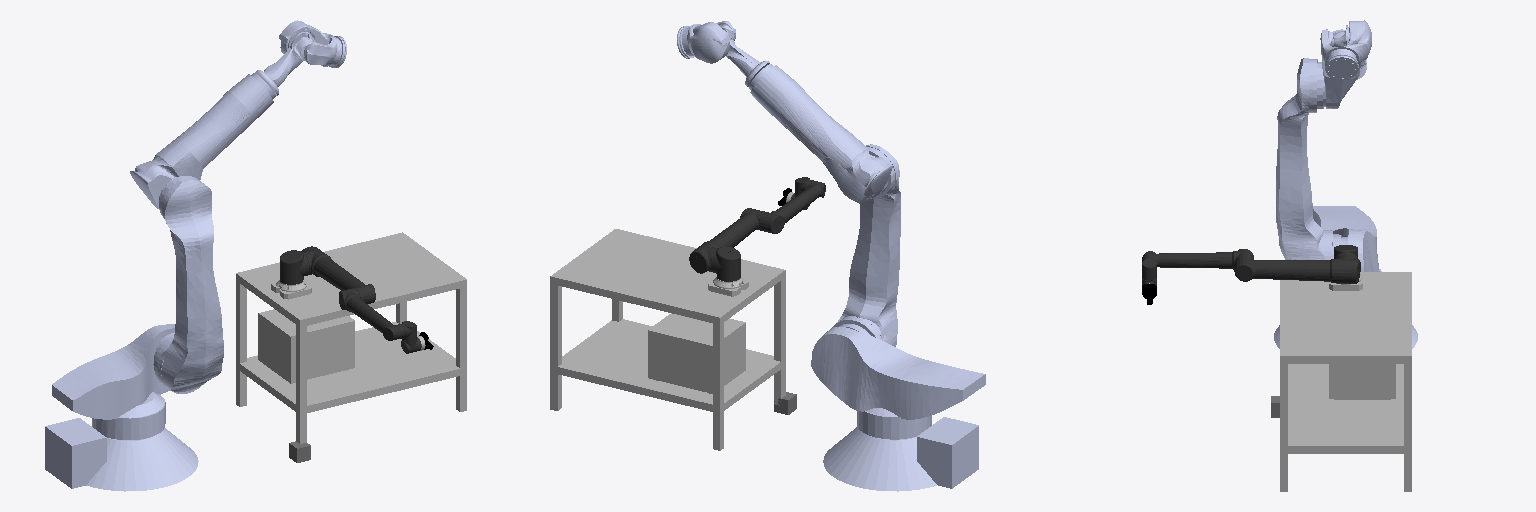
--- Render facts (derived) ---
3 views of the same robot in one strip: view 1: azimuth 30°, elevation 25°; view 2: azimuth 150°, elevation 25°; view 3: azimuth 270°, elevation 25° (orthographic).
Robot: dual_robots — 26 links, 25 joints (6 revolute, 6 continuous, 13 fixed); root link world_link; default pose: all joints at 0.
Links seen in each view (by area): view 1: table_link, link_2, link_1, base_link_quantec, link_3, link_5, upper_arm_link, link_4, forearm_link, shoulder_link; view 2: table_link, link_1, base_link_quantec, link_2, link_3, link_5, upper_arm_link, forearm_link, shoulder_link, link_4; view 3: table_link, link_2, upper_arm_link, link_1, forearm_link, link_5, link_3, link_6.
Link boxes in pixels (x1=…): table_link: x1=236, y1=232, x2=466, y2=443; link_2: x1=153, y1=176, x2=223, y2=393; link_1: x1=52, y1=324, x2=174, y2=439; base_link_quantec: x1=45, y1=418, x2=198, y2=491; link_3: x1=130, y1=73, x2=275, y2=209; link_5: x1=279, y1=20, x2=341, y2=66; upper_arm_link: x1=301, y1=246, x2=375, y2=303; link_4: x1=255, y1=32, x2=315, y2=95; forearm_link: x1=339, y1=288, x2=404, y2=340; shoulder_link: x1=280, y1=250, x2=308, y2=284; table_link: x1=550, y1=229, x2=785, y2=450; link_1: x1=811, y1=327, x2=985, y2=439; base_link_quantec: x1=823, y1=417, x2=978, y2=491; link_2: x1=832, y1=144, x2=900, y2=346; link_3: x1=749, y1=64, x2=892, y2=203; link_5: x1=682, y1=21, x2=735, y2=63; upper_arm_link: x1=689, y1=208, x2=764, y2=273; forearm_link: x1=759, y1=180, x2=825, y2=233; shoulder_link: x1=711, y1=247, x2=740, y2=281; link_4: x1=723, y1=30, x2=769, y2=86; table_link: x1=1280, y1=272, x2=1411, y2=491; link_2: x1=1276, y1=58, x2=1344, y2=259; upper_arm_link: x1=1234, y1=254, x2=1360, y2=283; link_1: x1=1313, y1=206, x2=1381, y2=271; forearm_link: x1=1142, y1=249, x2=1253, y2=269; link_5: x1=1320, y1=20, x2=1371, y2=63; link_3: x1=1321, y1=29, x2=1366, y2=108; link_6: x1=1325, y1=54, x2=1358, y2=80.
Size in the robot's own frame: 2.72 by 1.66 by 2.73 metres.
Meshes: 17 distinct files referenced, 17 mesh visuals loaded (17 binary STL).

robot.urdf — dual_robots:
<?xml version="1.0" ?>
<!-- =================================================================================== -->
<!-- |    This document was autogenerated by xacro from [local-path]/goldilocks_sensibility_ws/src/bdr11_description/urdf/test/bdr11_test.urdf.xacro | -->
<!-- |    EDITING THIS FILE BY HAND IS NOT RECOMMENDED                                 | -->
<!-- =================================================================================== -->
<robot name="dual_robots">
    <!-- Define the world link -->
    <link name="world_link">
        <inertial>
            <mass value="1.0" />
            <origin rpy="0 0 0" xyz="0 0 0" />
            <inertia ixx="0" ixy="0" ixz="0" iyy="0" iyz="0" izz="0" />
        </inertial>
        <visual>
            <geometry>
                <box size="0.1 0.1 0.1" />
            </geometry>
            <material name="gray">
                <color rgba="0.5 0.5 0.5 1.0" />
            </material>
        </visual>
        <collision>
            <geometry>
                <box size="0.1 0.1 0.1" />
            </geometry>
        </collision>
    </link>
    <!--https://github.com/carlosjoserg/force-torque-sensor/tree/master/model-->
    <!-- Add feedback for camera-related joints -->
    <gazebo reference="rgbd_camera_joint">
        <provideFeedback>true</provideFeedback>
        <plugin name="gazebo_ros_control" filename="libgazebo_ros_control.so">
            <robotNamespace>/</robotNamespace>
        </plugin>
    </gazebo>
    <gazebo reference="rgbd_camera_optical_joint">
        <provideFeedback>true</provideFeedback>
    </gazebo>
    <gazebo reference="rgbd_camera_depth_joint">
        <provideFeedback>true</provideFeedback>
    </gazebo>
    <gazebo reference="rgbd_camera_depth_optical_joint">
        <provideFeedback>true</provideFeedback>
    </gazebo>
    <gazebo reference="rgbd_camera_rgb_joint">
        <provideFeedback>true</provideFeedback>
    </gazebo>
    <gazebo reference="rgbd_camera_rgb_optical_joint">
        <provideFeedback>true</provideFeedback>
    </gazebo>
    <gazebo reference="rgbd_camera_link">
        <!-- Depth (IR) -->
        <sensor name="rgbd_camera_frame_sensor" type="depth">
            <always_on>true</always_on>
            <update_rate>6.0</update_rate>
            <camera>
                <horizontal_fov>1.0122909661567112</horizontal_fov>
                <image>
                    <format>R8G8B8</format>
                    <width>800</width>
                    <height>600</height>
                </image>
                <clip>
                    <near>0.05</near>
                    <far>1.5</far>
                </clip>
            </camera>
            <plugin filename="libgazebo_ros_openni_kinect.so" name="rgbd_camera_frame_controller">
                <alwaysOn>true</alwaysOn>
                <updateRate>6.0</updateRate>
                <cameraName>rgbd_camera</cameraName>
                <imageTopicName>ir/image_raw</imageTopicName>
                <cameraInfoTopicName>ir/camera_info</cameraInfoTopicName>
                <depthImageTopicName>depth/image_raw</depthImageTopicName>
                <depthImageCameraInfoTopicName>depth/camera_info</depthImageCameraInfoTopicName>
                <pointCloudTopicName>depth/points</pointCloudTopicName>
                <frameName>rgbd_camera_optical_frame</frameName>
                <pointCloudCutoff>0.05</pointCloudCutoff>
                <pointCloudCutoffMax>5</pointCloudCutoffMax>
                <rangeMax>1.5</rangeMax>
            </plugin>
        </sensor>
        <!-- RGB -->
        <sensor name="rgbd_camera_frame_sensor" type="depth">
            <always_on>true</always_on>
            <update_rate>6.0</update_rate>
            <camera>
                <horizontal_fov>1.0122909661567112</horizontal_fov>
                <image>
                    <format>R8G8B8</format>
                    <width>800</width>
                    <height>600</height>
                </image>
                <clip>
                    <near>0.05</near>
                    <far>1.5</far>
                </clip>
            </camera>
            <plugin filename="libgazebo_ros_openni_kinect.so" name="rgbd_camera_frame_controller">
                <alwaysOn>true</alwaysOn>
                <updateRate>6.0</updateRate>
                <cameraName>rgbd_camera</cameraName>
                <imageTopicName>rgb/image_raw</imageTopicName>
                <cameraInfoTopicName>rgb/camera_info</cameraInfoTopicName>
                <pointCloudTopicName>rgb/points</pointCloudTopicName>
                <depthImageTopicName>depth/image_raw</depthImageTopicName>
                <depthImageCameraInfoTopicName>depth/camera_info</depthImageCameraInfoTopicName>
                <frameName>rgbd_camera_optical_frame</frameName>
                <pointCloudCutoff>0.05</pointCloudCutoff>
                <pointCloudCutoffMax>5</pointCloudCutoffMax>
                <rangeMax>1.5</rangeMax>
            </plugin>
        </sensor>
        <!-- Add feedback for camera link -->
        <provideFeedback>true</provideFeedback>
    </gazebo>
    <!-- call -->
    <!-- <xacro:ur10_robot/> -->
    <link name="table_link">
        <inertial>
            <origin rpy="0 0 0" xyz="0.503679778923471 0.436750246454337 0.533162239913515" />
            <mass value="164.427518164029" />
            <inertia ixx="17.5438109681455" ixy="1.00173029919582" ixz="-0.84554880731535" iyy="27.9962527469498" iyz="0.32261270489944" izz="25.3196927520228" />
        </inertial>
        <visual>
            <origin rpy="0 0 0" xyz="0 0 0" />
            <geometry>
                <mesh filename="package://ur10_description_v3/meshes/table_link.STL" />
            </geometry>
            <material name="">
                <color rgba="0.752941176470588 0.752941176470588 0.752941176470588 1" />
            </material>
        </visual>
        <collision>
            <origin rpy="0 0 0" xyz="0 0 0" />
            <geometry>
                <mesh filename="package://ur10_description_v3/meshes/table_link.STL" />
            </geometry>
        </collision>
    </link>
    <link name="adapter_link">
        <inertial>
            <origin rpy="0 0 0" xyz="0.00148762870939384 -5.55111512312578E-17 0.0184969952138566" />
            <mass value="1.3940393775037" />
            <inertia ixx="0.00480218257555222" ixy="-3.32761202584861E-19" ixz="-6.23136456619299E-09" iyy="0.00460995913579551" iyz="-9.9318015210222E-20" izz="0.00909416459764461" />
        </inertial>
        <visual>
            <origin rpy="0 0 0" xyz="0 0 0" />
            <geometry>
                <mesh filename="package://ur10_description_v3/meshes/adapter_link.STL" />
            </geometry>
            <material name="">
                <color rgba="0.752941176470588 0.752941176470588 0.752941176470588 1" />
            </material>
        </visual>
        <collision>
            <origin rpy="0 0 0" xyz="0 0 0" />
            <geometry>
                <mesh filename="package://ur10_description_v3/meshes/adapter_link.STL" />
            </geometry>
        </collision>
    </link>
    <joint name="adapter_joint" type="fixed">
        <origin rpy="0 0 0" xyz="0.17 0.4 0.9" />
        <parent link="table_link" />
        <child link="adapter_link" />
        <axis xyz="0 0 0" />
    </joint>
    <link name="base_link">
        <inertial>
            <origin rpy="0 0 0" xyz="0.0011845 -2.7253E-08 0.017325" />
            <mass value="0.86268" />
            <inertia ixx="0.0017501" ixy="8.3495E-09" ixz="9.0593E-06" iyy="0.0016637" iyz="-4.5806E-10" izz="0.0032119" />
        </inertial>
        <visual>
            <origin rpy="0 0 0" xyz="0 0 0" />
            <geometry>
                <mesh filename="package://ur10_description_v3/meshes/base_link.STL" />
            </geometry>
            <material name="">
                <color rgba="0.75294 0.75294 0.75294 1" />
            </material>
        </visual>
        <collision>
            <origin rpy="0 0 0" xyz="0 0 0" />
            <geometry>
                <mesh filename="package://ur10_description_v3/meshes/base_link.STL" />
            </geometry>
        </collision>
    </link>
    <joint name="base_joint" type="fixed">
        <origin rpy="0 0 0" xyz="0 0 0.037" />
        <parent link="adapter_link" />
        <child link="base_link" />
        <axis xyz="0 0 0" />
    </joint>
    <link name="shoulder_link">
        <inertial>
            <origin rpy="0 0 0" xyz="2.679E-07 0.010024 0.0831" />
            <mass value="7.778" />
            <inertia ixx="0.012906" ixy="1.6076E-08" ixz="-3.7079E-08" iyy="0.012039" iyz="-0.00053627" izz="0.010755" />
        </inertial>
        <visual>
            <origin rpy="0 0 0" xyz="0 0 0" />
            <geometry>
                <mesh filename="package://ur10_description_v3/meshes/shoulder_link.STL" />
            </geometry>
            <material name="">
                <color rgba="0.25098 0.25098 0.25098 1" />
            </material>
        </visual>
        <collision>
            <origin rpy="0 0 0" xyz="0 0 0" />
            <geometry>
                <mesh filename="package://ur10_description_v3/meshes/shoulder_link.STL" />
            </geometry>
        </collision>
    </link>
    <joint name="shoulder_pan_joint" type="revolute">
        <origin rpy="0 0 -1.57" xyz="0 0 0.038" />
        <parent link="base_link" />
        <child link="shoulder_link" />
        <axis xyz="0 0 1" />
        <limit effort="330" lower="-6.28" upper="6.28" velocity="120" />
    </joint>
    <link name="upper_arm_link">
        <inertial>
            <origin rpy="0 0 0" xyz="-0.25443 -2.027E-07 0.082537" />
            <mass value="12.93" />
            <inertia ixx="0.024456" ixy="3.1971E-08" ixz="0.0078193" iyy="0.52575" iyz="8.3512E-08" izz="0.52417" />
        </inertial>
        <visual>
            <origin rpy="0 0 0" xyz="0 0 0" />
            <geometry>
                <mesh filename="package://ur10_description_v3/meshes/upper_arm_link.STL" />
            </geometry>
            <material name="">
                <color rgba="0.25098 0.25098 0.25098 1" />
            </material>
        </visual>
        <collision>
            <origin rpy="0 0 0" xyz="0 0 0" />
            <geometry>
                <mesh filename="package://ur10_description_v3/meshes/upper_arm_link.STL" />
            </geometry>
        </collision>
    </link>
    <joint name="shoulder_lift_joint" type="revolute">
        <origin rpy="1.5707963267949 0.0240929901040578 3.14159265358979" xyz="0 0.0859989999999999 0.0882571802206784" />
        <parent link="shoulder_link" />
        <child link="upper_arm_link" />
        <axis xyz="0 0 1" />
        <limit effort="330" lower="-6.28" upper="6.28" velocity="120" />
    </joint>
    <link name="forearm_link">
        <inertial>
            <origin rpy="0 0 0" xyz="-0.24807 1.9251E-09 -0.034936" />
            <mass value="3.87" />
            <inertia ixx="0.0067905" ixy="5.4328E-08" ixz="-0.00025402" iyy="0.20899" iyz="7.4389E-09" izz="0.20875" />
        </inertial>
        <visual>
            <origin rpy="0 0 0" xyz="0 0 0" />
            <geometry>
                <mesh filename="package://ur10_description_v3/meshes/forearm_link.STL" />
            </geometry>
            <material name="">
                <color rgba="0.25098 0.25098 0.25098 1" />
            </material>
        </visual>
        <collision>
            <origin rpy="0 0 0" xyz="0 0 0" />
            <geometry>
                <mesh filename="package://ur10_description_v3/meshes/forearm_link.STL" />
            </geometry>
        </collision>
    </link>
    <joint name="elbow_joint" type="revolute">
        <origin rpy="0 0 0.0242666741712824" xyz="-0.612 0 0" />
        <parent link="upper_arm_link" />
        <child link="forearm_link" />
        <axis xyz="0 0 1" />
        <limit effort="150" lower="-3.14" upper="3.14" velocity="180" />
    </joint>
    <link name="wrist_1_link">
        <inertial>
            <origin rpy="0 0 0" xyz="8.3814E-09 -0.010045 0.046994" />
            <mass value="1.96" />
            <inertia ixx="0.0010747" ixy="-1.3405E-12" ixz="4.6386E-10" iyy="0.00088168" iyz="7.862E-05" izz="0.00098347" />
        </inertial>
        <visual>
            <origin rpy="0 0 0" xyz="0 0 0" />
            <geometry>
                <mesh filename="package://ur10_description_v3/meshes/wrist_1_link.STL" />
            </geometry>
            <material name="">
                <color rgba="0.25098 0.25098 0.25098 1" />
            </material>
        </visual>
        <collision>
            <origin rpy="0 0 0" xyz="0 0 0" />
            <geometry>
                <mesh filename="package://ur10_description_v3/meshes/wrist_1_link.STL" />
            </geometry>
        </collision>
    </link>
    <joint name="wrist_1_joint" type="revolute">
        <origin rpy="0 0 -0.000173684067224549" xyz="-0.5716 0 0.0220010000000001" />
        <parent link="forearm_link" />
        <child link="wrist_1_link" />
        <axis xyz="0 0 1" />
        <limit effort="56" lower="-6.28" upper="6.28" velocity="180" />
    </joint>
    <link name="wrist_2_link">
        <inertial>
            <origin rpy="0 0 0" xyz="-8.3814E-09 0.010045 0.046994" />
            <mass value="1.96" />
            <inertia ixx="0.0010747" ixy="-1.3405E-12" ixz="-4.6386E-10" iyy="0.00088168" iyz="-7.862E-05" izz="0.00098347" />
        </inertial>
        <visual>
            <origin rpy="0 0 0" xyz="0 0 0" />
            <geometry>
                <mesh filename="package://ur10_description_v3/meshes/wrist_2_link.STL" />
            </geometry>
            <material name="">
                <color rgba="0.25098 0.25098 0.25098 1" />
            </material>
        </visual>
        <collision>
            <origin rpy="0 0 0" xyz="0 0 0" />
            <geometry>
                <mesh filename="package://ur10_description_v3/meshes/wrist_2_link.STL" />
            </geometry>
        </collision>
    </link>
    <joint name="wrist_2_joint" type="revolute">
        <origin rpy="1.5707963267949 0 0" xyz="0 -0.0617000000000001 0.054" />
        <parent link="wrist_1_link" />
        <child link="wrist_2_link" />
        <axis xyz="0 0 1" />
        <limit effort="56" lower="-6.28" upper="6.28" velocity="180" />
    </joint>
    <link name="wrist_3_link">
        <inertial>
            <origin rpy="0 0 0" xyz="2.2204E-16 -1.1102E-16 0.015005" />
            <mass value="0.202" />
            <inertia ixx="0.00010845" ixy="-6.3527E-22" ixz="8.5217E-21" iyy="0.00010845" iyz="2.1272E-20" izz="0.0001885" />
        </inertial>
        <visual>
            <origin rpy="0 0 0" xyz="0 0 0" />
            <geometry>
                <mesh filename="package://ur10_description_v3/meshes/wrist_3_link.STL" />
            </geometry>
            <material name="">
                <color rgba="0.75294 0.75294 0.75294 1" />
            </material>
        </visual>
        <collision>
            <origin rpy="0 0 0" xyz="0 0 0" />
            <geometry>
                <mesh filename="package://ur10_description_v3/meshes/wrist_3_link.STL" />
            </geometry>
        </collision>
    </link>
    <joint name="wrist_3_joint" type="revolute">
        <origin rpy="-1.5707963267949 0.0141025375343068 0" xyz="0 0.0617 0.054" />
        <parent link="wrist_2_link" />
        <child link="wrist_3_link" />
        <axis xyz="0 0 1" />
        <limit effort="56" lower="-6.28" upper="6.28" velocity="180" />
    </joint>
    <link name="tool0_link">
        <inertial>
            <origin rpy="0 0 0" xyz="-9.51811385263568E-09 -0.00040829549117638 -0.063076624107084" />
            <mass value="0.159494248297753" />
            <inertia ixx="0.000196142213229152" ixy="-3.17147593634008E-12" ixz="-8.16590451397829E-11" iyy="0.000202558472496363" iyz="3.31143649078889E-05" izz="0.000103928487892553" />
        </inertial>
        <visual>
            <origin rpy="0 0 0" xyz="0 0 0" />
            <geometry>
                <mesh filename="package://ur10_description_v3/meshes/test_finger_link.STL" />
            </geometry>
            <material name="">
                <color rgba="0 0 0 1" />
            </material>
        </visual>
        <collision>
            <origin rpy="0 0 0" xyz="0 0 0" />
            <geometry>
                <mesh filename="package://ur10_description_v3/meshes/test_finger_link.STL" />
            </geometry>
        </collision>
    </link>
    <joint name="tool0" type="fixed">
        <origin rpy="0.785398163397435 0 0" xyz="0 -0.0486072989450782 0.0984743807368732" />
        <parent link="wrist_3_link" />
        <child link="tool0_link" />
        <axis xyz="0 0 0" />
    </joint>
    <link name="camera_link">
        <inertial>
            <origin rpy="0 0 0" xyz="-1.61524861117535E-05 -0.00212700504491092 -0.0193765848255853" />
            <mass value="0.0840231018507497" />
            <inertia ixx="8.83086020963579E-06" ixy="4.69402693871799E-10" ixz="-1.85931238714756E-08" iyy="0.00010709697994186" iyz="1.0714392504519E-06" izz="0.000107821135197006" />
        </inertial>
        <!-- <visual>
                <origin xyz="0 0 0" rpy="0 0 0" />
                <geometry>
                    <mesh filename="package://ur10_description_v3/meshes/camera_link.STL" />
                </geometry>
                <material name="">
                    <color rgba="0.792156862745098 0.819607843137255 0.933333333333333 1" />
                </material>
            </visual> -->
        <collision>
            <origin rpy="0 0 0" xyz="0 0 0" />
            <geometry>
                <mesh filename="package://ur10_description_v3/meshes/camera_link.STL" />
            </geometry>
        </collision>
    </link>
    <joint name="tool_camera" type="fixed">
        <origin rpy="0.856180071631976 0 0" xyz="0 0.0158483827537649 0.0919267022436815" />
        <parent link="wrist_3_link" />
        <child link="camera_link" />
        <axis xyz="0 0 0" />
    </joint>
    <!-- Forces the joint to send feedback  -->
    <gazebo reference="wrist_3_joint">
        <provideFeedback>true</provideFeedback>
    </gazebo>
    <!-- The ft_sensor plugin  -->
    <gazebo>
        <plugin filename="libgazebo_ros_ft_sensor.so" name="wrist_3_joint_ft_sensor">
            <updateRate>1000.0</updateRate>
            <topicName>/wrench</topicName>
            <jointName>wrist_3_joint</jointName>
            <noise>
                <type>gaussian</type>
                <mean>0.0</mean>
                <stddev>0.003</stddev>
                <!-- change this to simulate noise -->
            </noise>
        </plugin>
    </gazebo>
    <!-- frames in the center of the camera -->
    <joint name="rgbd_camera_joint" type="fixed">
        <origin rpy="0 0 3.14" xyz="0 0 0.005" />
        <parent link="camera_link" />
        <child link="rgbd_camera_link" />
    </joint>
    <link name="rgbd_camera_link">
        <inertial>
            <origin rpy="0 0 0" xyz="-0.00936000000 -0.00003000000 -0.00273000000" />
            <mass value="0.21970000000" />
            <inertia ixx="0.00000429247" ixy="0.00000000000" ixz="0.00000002565" iyy="0.00000008027" iyz="0.00000000000" izz="0.00000427339" />
        </inertial>
        <!-- <visual>
                <geometry>
                    <box size="0.025 0.1 0.025" />
                    <<mesh filename="package://"/> 
                </geometry>
                <material name="DarkGrey"/>
            </visual> -->
        <!-- <collision>
                <geometry>
                    <box size="0.025 0.1 0.025" />
                    <mesh filename="package://"/>
                </geometry>
            </collision> -->
    </link>
    <joint name="rgbd_camera_optical_joint" type="fixed">
        <origin rpy="0 0 0" xyz="0 0 0" />
        <parent link="rgbd_camera_link" />
        <child link="rgbd_camera_optical_frame" />
    </joint>
    <link name="rgbd_camera_optical_frame">
        <inertial>
            <origin rpy="0 0 0" xyz="0 0 0" />
            <mass value="0.001" />
            <inertia ixx="0.00001" ixy="0" ixz="0" iyy="0.00001" iyz="0" izz="0.00001" />
        </inertial>
    </link>
    <!-- Depth sensor frames -->
    <joint name="rgbd_camera_depth_joint" type="fixed">
        <origin rpy="1.57 -1.57 0" xyz="-0.025 0.0 0.0" />
        <!--origin xyz="0.0 0.049 0.0" rpy="0 0 0"-->
        <parent link="rgbd_camera_link" />
        <child link="rgbd_camera_depth_frame" />
    </joint>
    <link name="rgbd_camera_depth_frame">
        <inertial>
            <origin rpy="0 0 0" xyz="0 0 0" />
            <mass value="0.001" />
            <inertia ixx="0.00001" ixy="0" ixz="0" iyy="0.00001" iyz="0" izz="0.00001" />
        </inertial>
    </link>
    <joint name="rgbd_camera_depth_optical_joint" type="fixed">
        <origin rpy="-1.5707963267948966 0.0 -1.5707963267948966" xyz="0 0 0" />
        <!-- -90 deg_to_rad - x&z -->
        <parent link="rgbd_camera_depth_frame" />
        <child link="rgbd_camera_depth_optical_frame" />
    </joint>
    <link name="rgbd_camera_depth_optical_frame">
        <inertial>
            <origin rpy="0 0 0" xyz="0 0 0" />
            <mass value="0.001" />
            <inertia ixx="0.00001" ixy="0" ixz="0" iyy="0.00001" iyz="0" izz="0.00001" />
        </inertial>
    </link>
    <!-- RGB sensor frames -->
    <joint name="rgbd_camera_rgb_joint" type="fixed">
        <origin rpy="1.57 -1.57 0" xyz="0 0 0" />
        <parent link="rgbd_camera_link" />
        <child link="rgbd_camera_rgb_frame" />
    </joint>
    <link name="rgbd_camera_rgb_frame">
        <inertial>
            <origin rpy="0 0 0" xyz="0 0 0" />
            <mass value="0.001" />
            <inertia ixx="0.00001" ixy="0" ixz="0" iyy="0.00001" iyz="0" izz="0.00001" />
        </inertial>
    </link>
    <joint name="rgbd_camera_rgb_optical_joint" type="fixed">
        <origin rpy="-1.5707963267948966 0.0 -1.5707963267948966" xyz="0 0 0" />
        <!-- -90 deg_to_rad - x&z -->
        <parent link="rgbd_camera_rgb_frame" />
        <child link="rgbd_camera_rgb_optical_frame" />
    </joint>
    <link name="rgbd_camera_rgb_optical_frame">
        <inertial>
            <origin rpy="0 0 0" xyz="0 0 0" />
            <mass value="0.001" />
            <inertia ixx="0.00001" ixy="0" ixz="0" iyy="0.00001" iyz="0" izz="0.00001" />
        </inertial>
    </link>
    <!-- ROS-Industrial 'base' frame: base_link to UR 'Base' Coordinates transform -->
    <link name="base" />
    <joint name="base_link-base_fixed_joint" type="fixed">
        <!-- Note the rotation over Z of pi radians: as base_link is REP-103
            aligned (ie: has X+ forward, Y+ left and Z+ up), this is needed
            to correctly align 'base' with the 'Base' coordinate system of
            the UR controller.
        -->
        <origin rpy="0 0 3.14" xyz="0 0 0" />
        <parent link="base_link" />
        <child link="base" />
    </joint>
    <joint name="ur10_robot_joint" type="fixed">
        <parent link="world_link" />
        <child link="table_link" />
        <!-- ${ur10_ns} -->
        <origin rpy="0 0 0" xyz="0 0 0" />
    </joint>
    <!-- call -->
    <!-- <xacro:moveit_quantec/> -->
    <link name="base_link_quantec">
        <inertial>
            <origin rpy="0 0 0" xyz="-0.0810107614623872 1.69806255825153E-07 0.10599645436339" />
            <mass value="97.9298238151877" />
            <inertia ixx="3.12727259199142" ixy="2.14569120944394E-06" ixz="0.467210023955441" iyy="5.52628001885015" iyz="-1.97817775090254E-06" izz="7.58545932293491" />
        </inertial>
        <visual>
            <origin rpy="0 0 0" xyz="0 0 0" />
            <geometry>
                <mesh filename="package://moveit_quantec/meshes/base_link.STL" />
            </geometry>
            <material name="">
                <color rgba="0.792156862745098 0.819607843137255 0.933333333333333 1" />
            </material>
        </visual>
        <collision>
            <origin rpy="0 0 0" xyz="0 0 0" />
            <geometry>
                <mesh filename="package://moveit_quantec/meshes/base_link.STL" />
            </geometry>
        </collision>
    </link>
    <link name="link_1">
        <inertial>
            <origin rpy="0 0 0" xyz="-0.0084665 0.019734 0.25939" />
            <mass value="94.945" />
            <inertia ixx="2.6472" ixy="-0.62895" ixz="-0.35979" iyy="6.3022" iyz="-0.17581" izz="5.5156" />
        </inertial>
        <visual>
            <origin rpy="0 0 0" xyz="0 0 0" />
            <geometry>
                <mesh filename="package://moveit_quantec/meshes/link_1.STL" />
            </geometry>
            <material name="">
                <color rgba="0.79216 0.81961 0.93333 1" />
            </material>
        </visual>
        <collision>
            <origin rpy="0 0 0" xyz="0 0 0" />
            <geometry>
                <mesh filename="package://moveit_quantec/meshes/link_1.STL" />
            </geometry>
        </collision>
    </link>
    <joint name="joint_1" type="continuous">
        <origin rpy="1.5708 0.014047 0" xyz="0 -0.235 0" />
        <parent link="base_link_quantec" />
        <child link="link_1" />
        <axis xyz="0 0 1" />
    </joint>
    <link name="link_2">
        <inertial>
            <origin rpy="0 0 0" xyz="0.0015545 -0.23159 0.40897" />
            <mass value="82.176" />
            <inertia ixx="12.398" ixy="-9.2862E-05" ixz="0.082654" iyy="12.541" iyz="0.043185" izz="0.91874" />
        </inertial>
        <visual>
            <origin rpy="0 0 0" xyz="0 0 0" />
            <geometry>
                <mesh filename="package://moveit_quantec/meshes/link_2.STL" />
            </geometry>
            <material name="">
                <color rgba="0.79216 0.81961 0.93333 1" />
            </material>
        </visual>
        <collision>
            <origin rpy="0 0 0" xyz="0 0 0" />
            <geometry>
                <mesh filename="package://moveit_quantec/meshes/link_2.STL" />
            </geometry>
        </collision>
    </link>
    <joint name="joint_2" type="continuous">
        <origin rpy="0 -0.0391 0" xyz="0.33 0 0.41772" />
        <parent link="link_1" />
        <child link="link_2" />
        <axis xyz="0 1 0" />
    </joint>
    <link name="link_3">
        <inertial>
            <origin rpy="0 0 0" xyz="0.35711 -0.015416 0.10193" />
            <mass value="47.124" />
            <inertia ixx="0.41866" ixy="-0.086691" ixz="-0.15996" iyy="3.9994" iyz="-0.042155" izz="3.9284" />
        </inertial>
        <visual>
            <origin rpy="0 0 0" xyz="0 0 0" />
            <geometry>
                <mesh filename="package://moveit_quantec/meshes/link_3.STL" />
            </geometry>
            <material name="">
                <color rgba="0.79216 0.81961 0.93333 1" />
            </material>
        </visual>
        <collision>
            <origin rpy="0 0 0" xyz="0 0 0" />
            <geometry>
                <mesh filename="package://moveit_quantec/meshes/link_3.STL" />
            </geometry>
        </collision>
    </link>
    <joint name="joint_3" type="continuous">
        <origin rpy="0 -0.52738 0" xyz="0 0 1.15" />
        <parent link="link_2" />
        <child link="link_3" />
        <axis xyz="0 1 0" />
    </joint>
    <link name="link_4">
        <inertial>
            <origin rpy="0 0 0" xyz="0.27937 0.0063685 -0.00017456" />
            <mass value="4.6744" />
            <inertia ixx="0.011503" ixy="-0.0037737" ixz="7.4652E-05" iyy="0.085293" iyz="-0.00012925" izz="0.085285" />
        </inertial>
        <visual>
            <origin rpy="0 0 0" xyz="0 0 0" />
            <geometry>
                <mesh filename="package://moveit_quantec/meshes/link_4.STL" />
            </geometry>
            <material name="">
                <color rgba="0.79216 0.81961 0.93333 1" />
            </material>
        </visual>
        <collision>
            <origin rpy="0 0 0" xyz="0 0 0" />
            <geometry>
                <mesh filename="package://moveit_quantec/meshes/link_4.STL" />
            </geometry>
        </collision>
    </link>
    <joint name="joint_4" type="continuous">
        <origin rpy="0.037095 0 0" xyz="0.78147 -0.0086752 0.115" />
        <parent link="link_3" />
        <child link="link_4" />
        <axis xyz="1 0 0" />
    </joint>
    <link name="link_5">
        <inertial>
            <origin rpy="0 0 0" xyz="0.046286 0.05529 7.0521E-05" />
            <mass value="8.3467" />
            <inertia ixx="0.035209" ixy="0.0040294" ixz="-2.9627E-05" iyy="0.059372" iyz="-0.00013764" izz="0.046632" />
        </inertial>
        <visual>
            <origin rpy="0 0 0" xyz="0 0 0" />
            <geometry>
                <mesh filename="package://moveit_quantec/meshes/link_5.STL" />
            </geometry>
            <material name="">
                <color rgba="0.79216 0.81961 0.93333 1" />
            </material>
        </visual>
        <collision>
            <origin rpy="0 0 0" xyz="0 0 0" />
            <geometry>
                <mesh filename="package://moveit_quantec/meshes/link_5.STL" />
            </geometry>
        </collision>
    </link>
    <joint name="joint_5" type="continuous">
        <origin rpy="0 0.9269 0" xyz="0.44853 0 0" />
        <parent link="link_4" />
        <child link="link_5" />
        <axis xyz="0 1 0" />
    </joint>
    <link name="link_6">
        <inertial>
            <origin rpy="0 0 0" xyz="0.021186 9.6657E-07 -3.3846E-07" />
            <mass value="0.97276" />
            <inertia ixx="0.0044336" ixy="-1.5389E-09" ixz="6.5721E-10" iyy="0.0023152" iyz="-1.9424E-09" izz="0.0023149" />
        </inertial>
        <visual>
            <origin rpy="0 0 0" xyz="0 0 0" />
            <geometry>
                <mesh filename="package://moveit_quantec/meshes/link_6.STL" />
            </geometry>
            <material name="">
                <color rgba="0.79216 0.81961 0.93333 1" />
            </material>
        </visual>
        <collision>
            <origin rpy="0 0 0" xyz="0 0 0" />
            <geometry>
                <mesh filename="package://moveit_quantec/meshes/link_6.STL" />
            </geometry>
        </collision>
    </link>
    <joint name="joint_6" type="continuous">
        <origin rpy="-2.218 0 0" xyz="0.20228 1.3733E-05 0" />
        <parent link="link_5" />
        <child link="link_6" />
        <axis xyz="1 0 0" />
    </joint>
    <joint name="quantec_robot_joint" type="fixed">
        <parent link="world_link" />
        <child link="base_link_quantec" />
        <!-- ${quantec_ns} -->
        <origin rpy="-1.57 0 0" xyz="-1 0.4 0" />
        <!-- Adjust xyz for the desired position -->
    </joint>
    <transmission name="trans_shoulder_pan_joint">
        <type>transmission_interface/SimpleTransmission</type>
        <joint name="shoulder_pan_joint">
            <hardwareInterface>hardware_interface/PositionJointInterface</hardwareInterface>
        </joint>
        <actuator name="shoulder_pan_joint_motor">
            <hardwareInterface>hardware_interface/PositionJointInterface</hardwareInterface>
            <mechanicalReduction>1</mechanicalReduction>
        </actuator>
    </transmission>
    <transmission name="trans_shoulder_lift_joint">
        <type>transmission_interface/SimpleTransmission</type>
        <joint name="shoulder_lift_joint">
            <hardwareInterface>hardware_interface/PositionJointInterface</hardwareInterface>
        </joint>
        <actuator name="shoulder_lift_joint_motor">
            <hardwareInterface>hardware_interface/PositionJointInterface</hardwareInterface>
            <mechanicalReduction>1</mechanicalReduction>
        </actuator>
    </transmission>
    <transmission name="trans_elbow_joint">
        <type>transmission_interface/SimpleTransmission</type>
        <joint name="elbow_joint">
            <hardwareInterface>hardware_interface/PositionJointInterface</hardwareInterface>
        </joint>
        <actuator name="elbow_joint_motor">
            <hardwareInterface>hardware_interface/PositionJointInterface</hardwareInterface>
            <mechanicalReduction>1</mechanicalReduction>
        </actuator>
    </transmission>
    <transmission name="trans_wrist_1_joint">
        <type>transmission_interface/SimpleTransmission</type>
        <joint name="wrist_1_joint">
            <hardwareInterface>hardware_interface/PositionJointInterface</hardwareInterface>
        </joint>
        <actuator name="wrist_1_joint_motor">
            <hardwareInterface>hardware_interface/PositionJointInterface</hardwareInterface>
            <mechanicalReduction>1</mechanicalReduction>
        </actuator>
    </transmission>
    <transmission name="trans_wrist_2_joint">
        <type>transmission_interface/SimpleTransmission</type>
        <joint name="wrist_2_joint">
            <hardwareInterface>hardware_interface/PositionJointInterface</hardwareInterface>
        </joint>
        <actuator name="wrist_2_joint_motor">
            <hardwareInterface>hardware_interface/PositionJointInterface</hardwareInterface>
            <mechanicalReduction>1</mechanicalReduction>
        </actuator>
    </transmission>
    <transmission name="trans_wrist_3_joint">
        <type>transmission_interface/SimpleTransmission</type>
        <joint name="wrist_3_joint">
            <hardwareInterface>hardware_interface/PositionJointInterface</hardwareInterface>
        </joint>
        <actuator name="wrist_3_joint_motor">
            <hardwareInterface>hardware_interface/PositionJointInterface</hardwareInterface>
            <mechanicalReduction>1</mechanicalReduction>
        </actuator>
    </transmission>
    <transmission name="trans_joint_1">
        <type>transmission_interface/SimpleTransmission</type>
        <joint name="joint_1">
            <hardwareInterface>hardware_interface/PositionJointInterface</hardwareInterface>
        </joint>
        <actuator name="joint_1_motor">
            <hardwareInterface>hardware_interface/PositionJointInterface</hardwareInterface>
            <mechanicalReduction>1</mechanicalReduction>
        </actuator>
    </transmission>
    <transmission name="trans_joint_2">
        <type>transmission_interface/SimpleTransmission</type>
        <joint name="joint_2">
            <hardwareInterface>hardware_interface/PositionJointInterface</hardwareInterface>
        </joint>
        <actuator name="joint_2_motor">
            <hardwareInterface>hardware_interface/PositionJointInterface</hardwareInterface>
            <mechanicalReduction>1</mechanicalReduction>
        </actuator>
    </transmission>
    <transmission name="trans_joint_3">
        <type>transmission_interface/SimpleTransmission</type>
        <joint name="joint_3">
            <hardwareInterface>hardware_interface/PositionJointInterface</hardwareInterface>
        </joint>
        <actuator name="joint_3_motor">
            <hardwareInterface>hardware_interface/PositionJointInterface</hardwareInterface>
            <mechanicalReduction>1</mechanicalReduction>
        </actuator>
    </transmission>
    <transmission name="trans_joint_4">
        <type>transmission_interface/SimpleTransmission</type>
        <joint name="joint_4">
            <hardwareInterface>hardware_interface/PositionJointInterface</hardwareInterface>
        </joint>
        <actuator name="joint_4_motor">
            <hardwareInterface>hardware_interface/PositionJointInterface</hardwareInterface>
            <mechanicalReduction>1</mechanicalReduction>
        </actuator>
    </transmission>
    <transmission name="trans_joint_5">
        <type>transmission_interface/SimpleTransmission</type>
        <joint name="joint_5">
            <hardwareInterface>hardware_interface/PositionJointInterface</hardwareInterface>
        </joint>
        <actuator name="joint_5_motor">
            <hardwareInterface>hardware_interface/PositionJointInterface</hardwareInterface>
            <mechanicalReduction>1</mechanicalReduction>
        </actuator>
    </transmission>
    <transmission name="trans_joint_6">
        <type>transmission_interface/SimpleTransmission</type>
        <joint name="joint_6">
            <hardwareInterface>hardware_interface/PositionJointInterface</hardwareInterface>
        </joint>
        <actuator name="joint_6_motor">
            <hardwareInterface>hardware_interface/PositionJointInterface</hardwareInterface>
            <mechanicalReduction>1</mechanicalReduction>
        </actuator>
    </transmission>
    <!-- Gazebo Plugins -->
    <gazebo>
        <plugin name="control" filename="libgazebo_ros_control.so">
        </plugin>
    </gazebo>
    <gazebo>
    <plugin name="joint_state_publisher" filename="libgazebo_ros_joint_state_publisher.so">
        <jointName> shoulder_pan_joint,
                    shoulder_lift_joint,
                    elbow_joint,
                    wrist_1_joint,
                    wrist_2_joint,
                    wrist_3_joint,
                    joint_1,
                    joint_2,
                    joint_3,
                    joint_4,
                    joint_5,
                    joint_6</jointName>
        <updateRate>50</updateRate>
    </plugin>
    </gazebo>
</robot>
